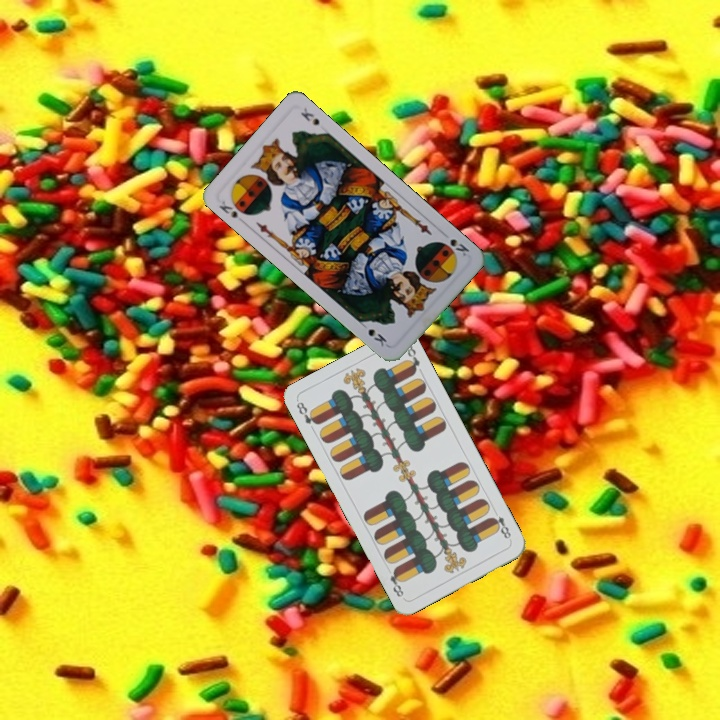E8: (487, 506, 514, 544), (292, 398, 321, 427)
SK: (215, 197, 248, 225), (446, 235, 472, 259)
